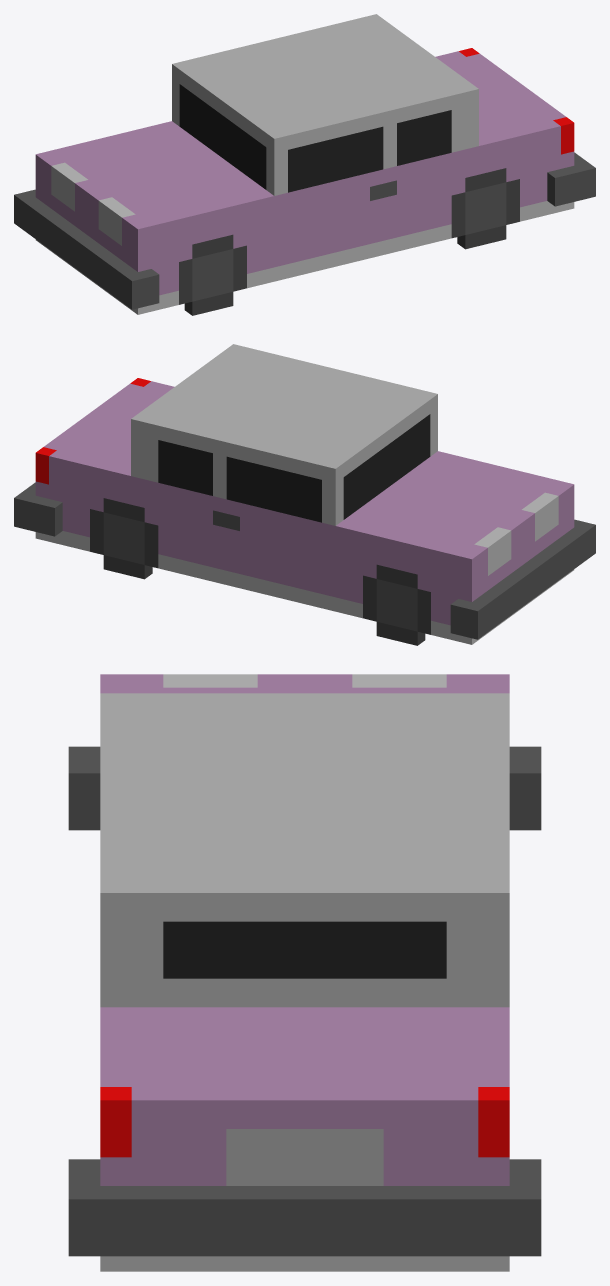
The model's file is voiture1pink.obj.
3 views of the same model, one above another, from view 1: azimuth 30°, elevation 25°; view 2: azimuth 150°, elevation 25°; view 3: azimuth 270°, elevation 25° (orthographic). The views are drawn at different scales.
Parts seen in each view (by area): view 1: voiture1pink; view 2: voiture1pink; view 3: voiture1pink.
Part boxes in pixels (x1,y1,x2,y2): voiture1pink: [14, 14, 595, 315]; voiture1pink: [14, 344, 595, 645]; voiture1pink: [68, 674, 541, 1271].
Size of the model in its own units: 34 by 11 by 15.
1 material, 1 textured.
